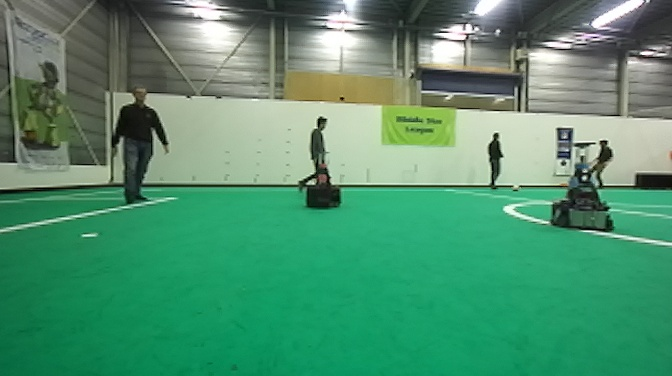ball: (510, 181, 522, 193), (557, 180, 567, 190)
human: (109, 84, 172, 205), (298, 114, 332, 195), (586, 137, 614, 190), (486, 130, 505, 191)
robot: (550, 141, 615, 233), (305, 148, 343, 212)
